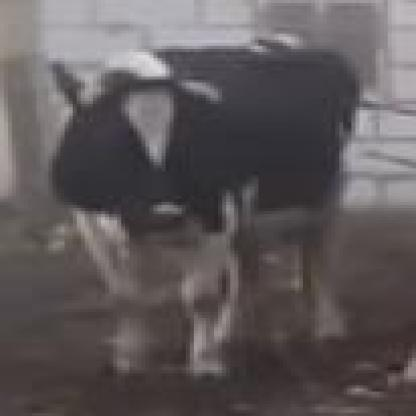cow: (48, 44, 360, 384)
